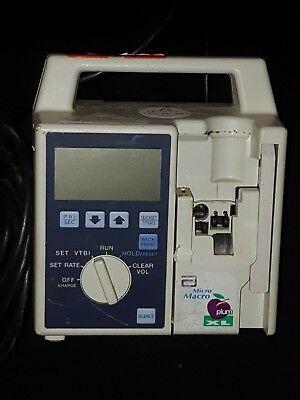plumxl1: (33, 52, 286, 343)
